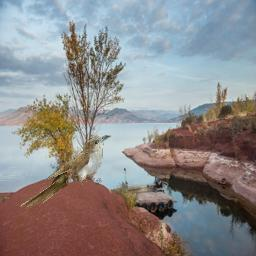Cuckoo: (20, 135, 111, 208)
